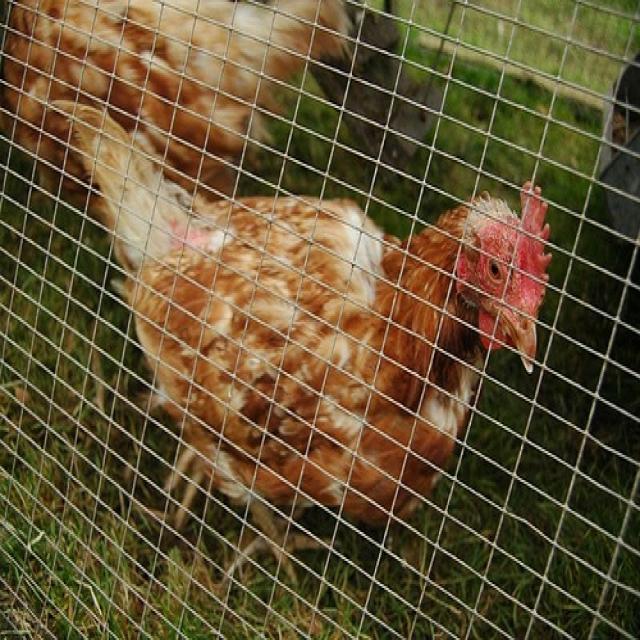bird: (47, 100, 552, 580)
